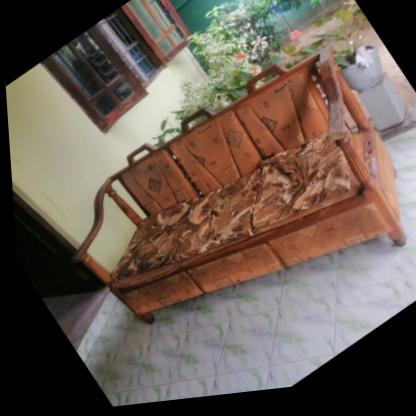Sofa: (28, 23, 416, 414)
